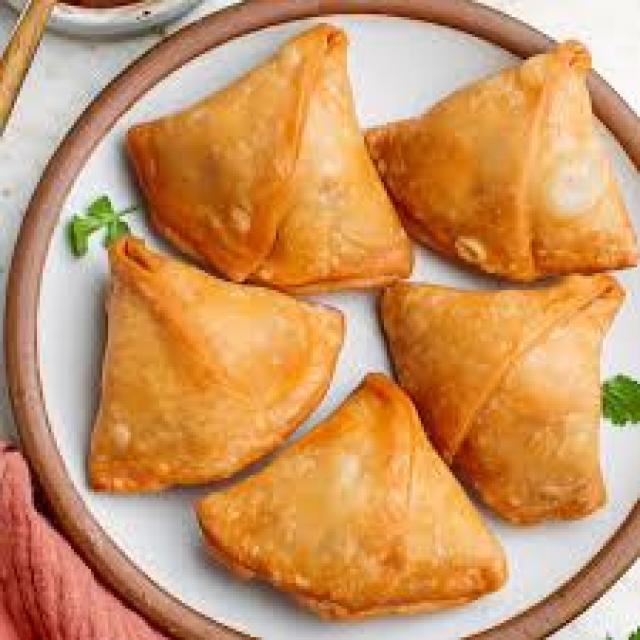SAMOSA: (191, 361, 510, 618), (118, 22, 420, 293), (88, 235, 352, 498), (365, 35, 637, 284), (378, 270, 632, 523)
